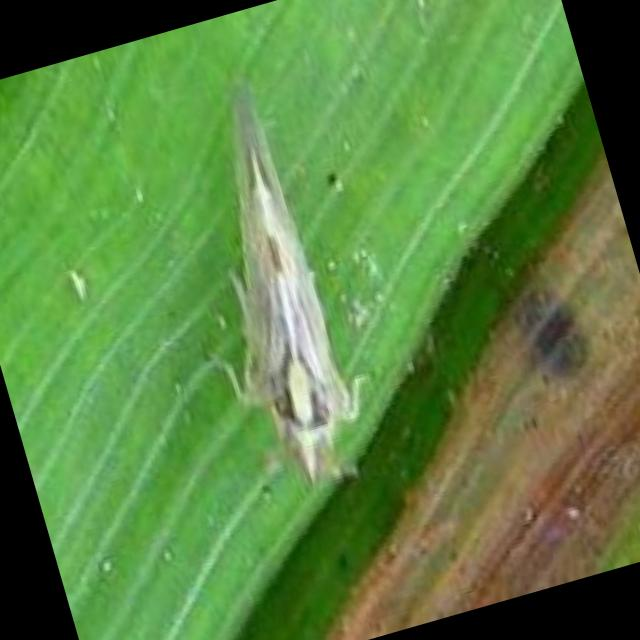brown-planthopper: (164, 81, 384, 502)
